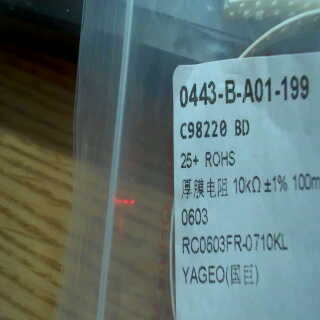10kR: (230, 171, 263, 196)
